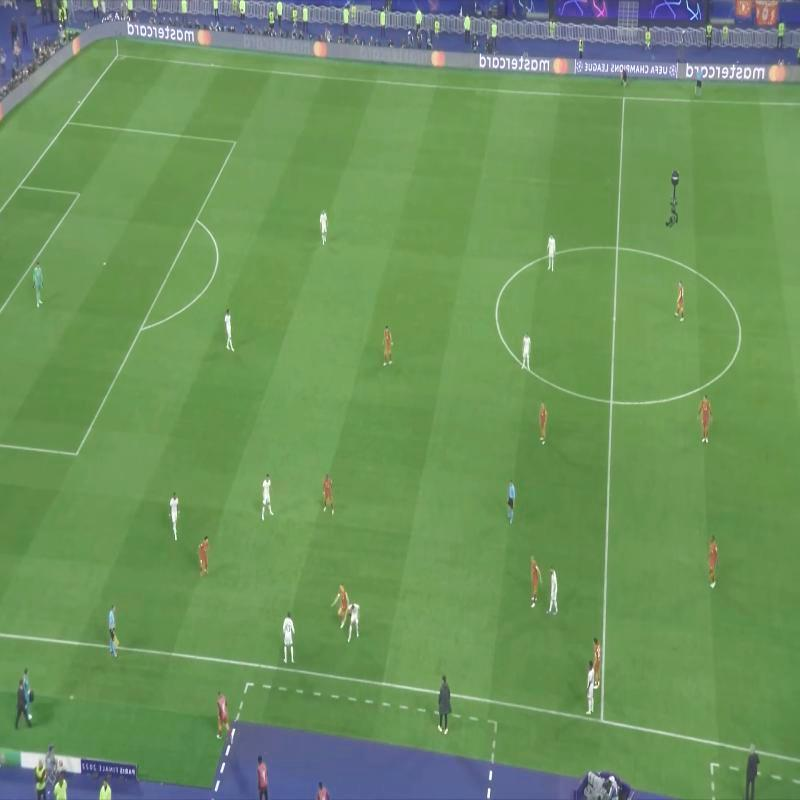1: (110, 49, 125, 64)
10: (188, 212, 204, 229)
11: (132, 320, 150, 338)
12: (68, 446, 84, 464)
13: (617, 90, 630, 108)
14: (609, 242, 624, 255)
15: (602, 394, 620, 411)
16: (590, 711, 613, 730)
2: (60, 111, 75, 134)
3: (12, 178, 27, 194)
7: (73, 184, 84, 204)
9: (228, 136, 243, 150)
c: (731, 324, 750, 342), (488, 305, 504, 320)
